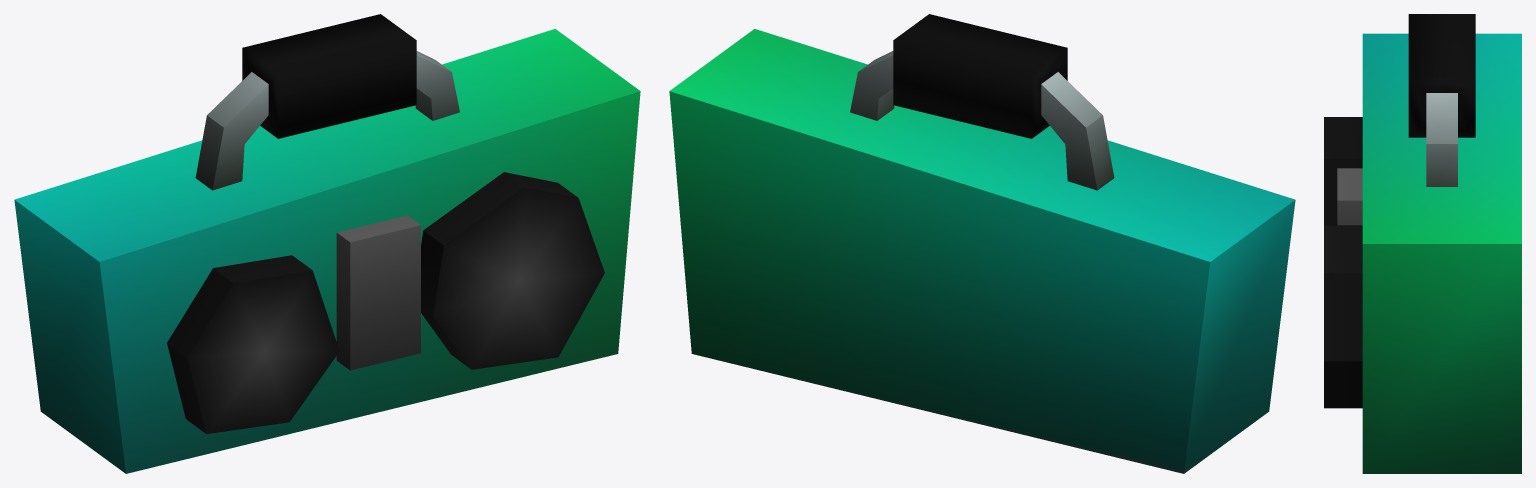
The model's file is Boombox.fbx.
3 views of the same model, side by side, from view 1: azimuth 30°, elevation 25°; view 2: azimuth 150°, elevation 25°; view 3: azimuth 270°, elevation 25° (orthographic). The views are drawn at different scales.
Visible parts, largest first — view 1: Boombox; view 2: Boombox; view 3: Boombox.
Part boxes in pixels (box(x1,y1,x2,y2)): Boombox: box(14, 14, 640, 473); Boombox: box(669, 14, 1295, 473); Boombox: box(1324, 14, 1521, 473).
Size of the model in its own units: 54.95 by 32.88 by 18.63.
